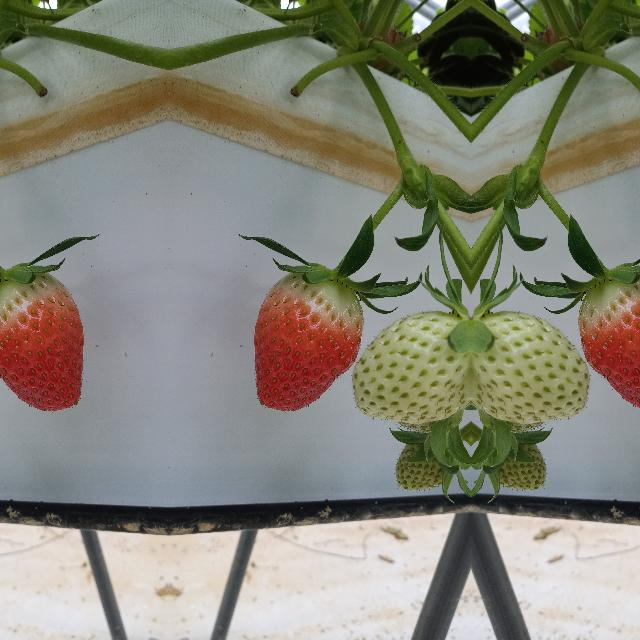Health_100: (252, 270, 364, 412), (0, 270, 84, 412), (577, 270, 640, 412)
Health_25: (354, 306, 470, 430), (471, 306, 587, 430)
